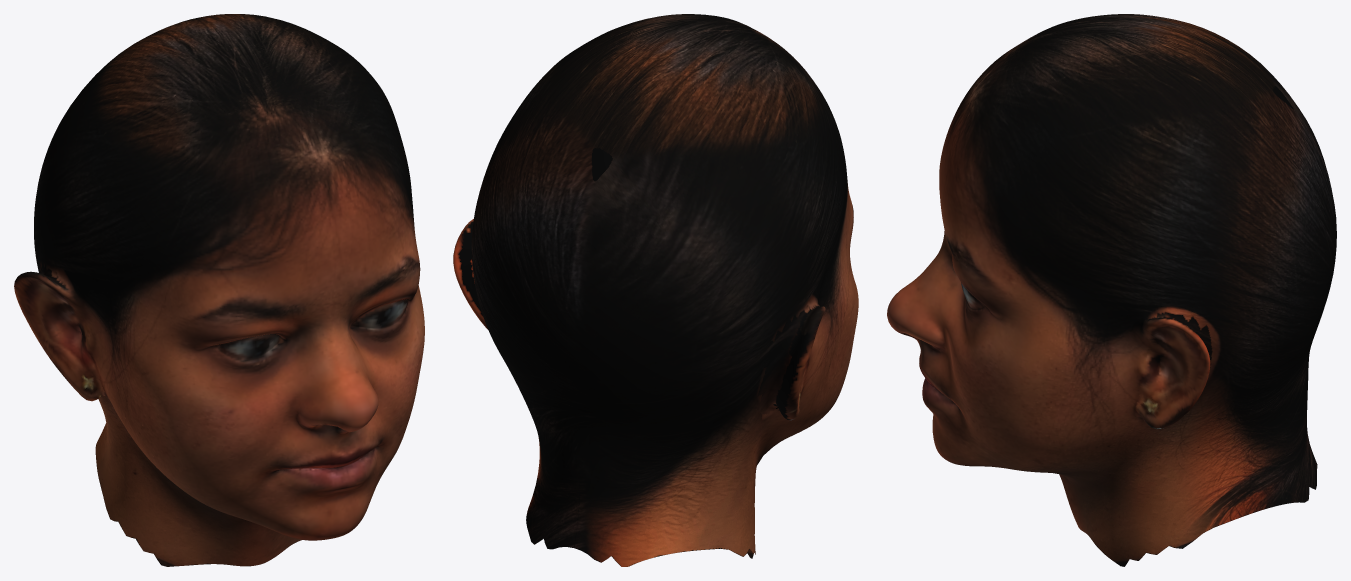
The picture shows the model from 3 angles, left to right: view 1: azimuth 30°, elevation 25°; view 2: azimuth 150°, elevation 25°; view 3: azimuth 270°, elevation 25°; orthographic projection. The views are drawn at different scales.
Parts seen in each view (by area): view 1: FaceBuilderHead; view 2: FaceBuilderHead; view 3: FaceBuilderHead.
Boxes of the visible parts, box(x1,y1,x2,y2) form: FaceBuilderHead: box(14, 14, 424, 566); FaceBuilderHead: box(453, 14, 858, 566); FaceBuilderHead: box(887, 14, 1336, 566).
Bounding box in the file's own units: 1.47 × 1.97 × 1.61.
Materials: 1 (1 with a texture image).
